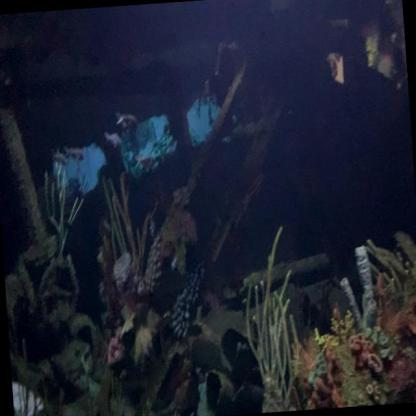fish: (113, 107, 139, 132), (132, 152, 157, 176), (102, 129, 124, 151), (61, 144, 85, 163), (50, 146, 70, 168)
